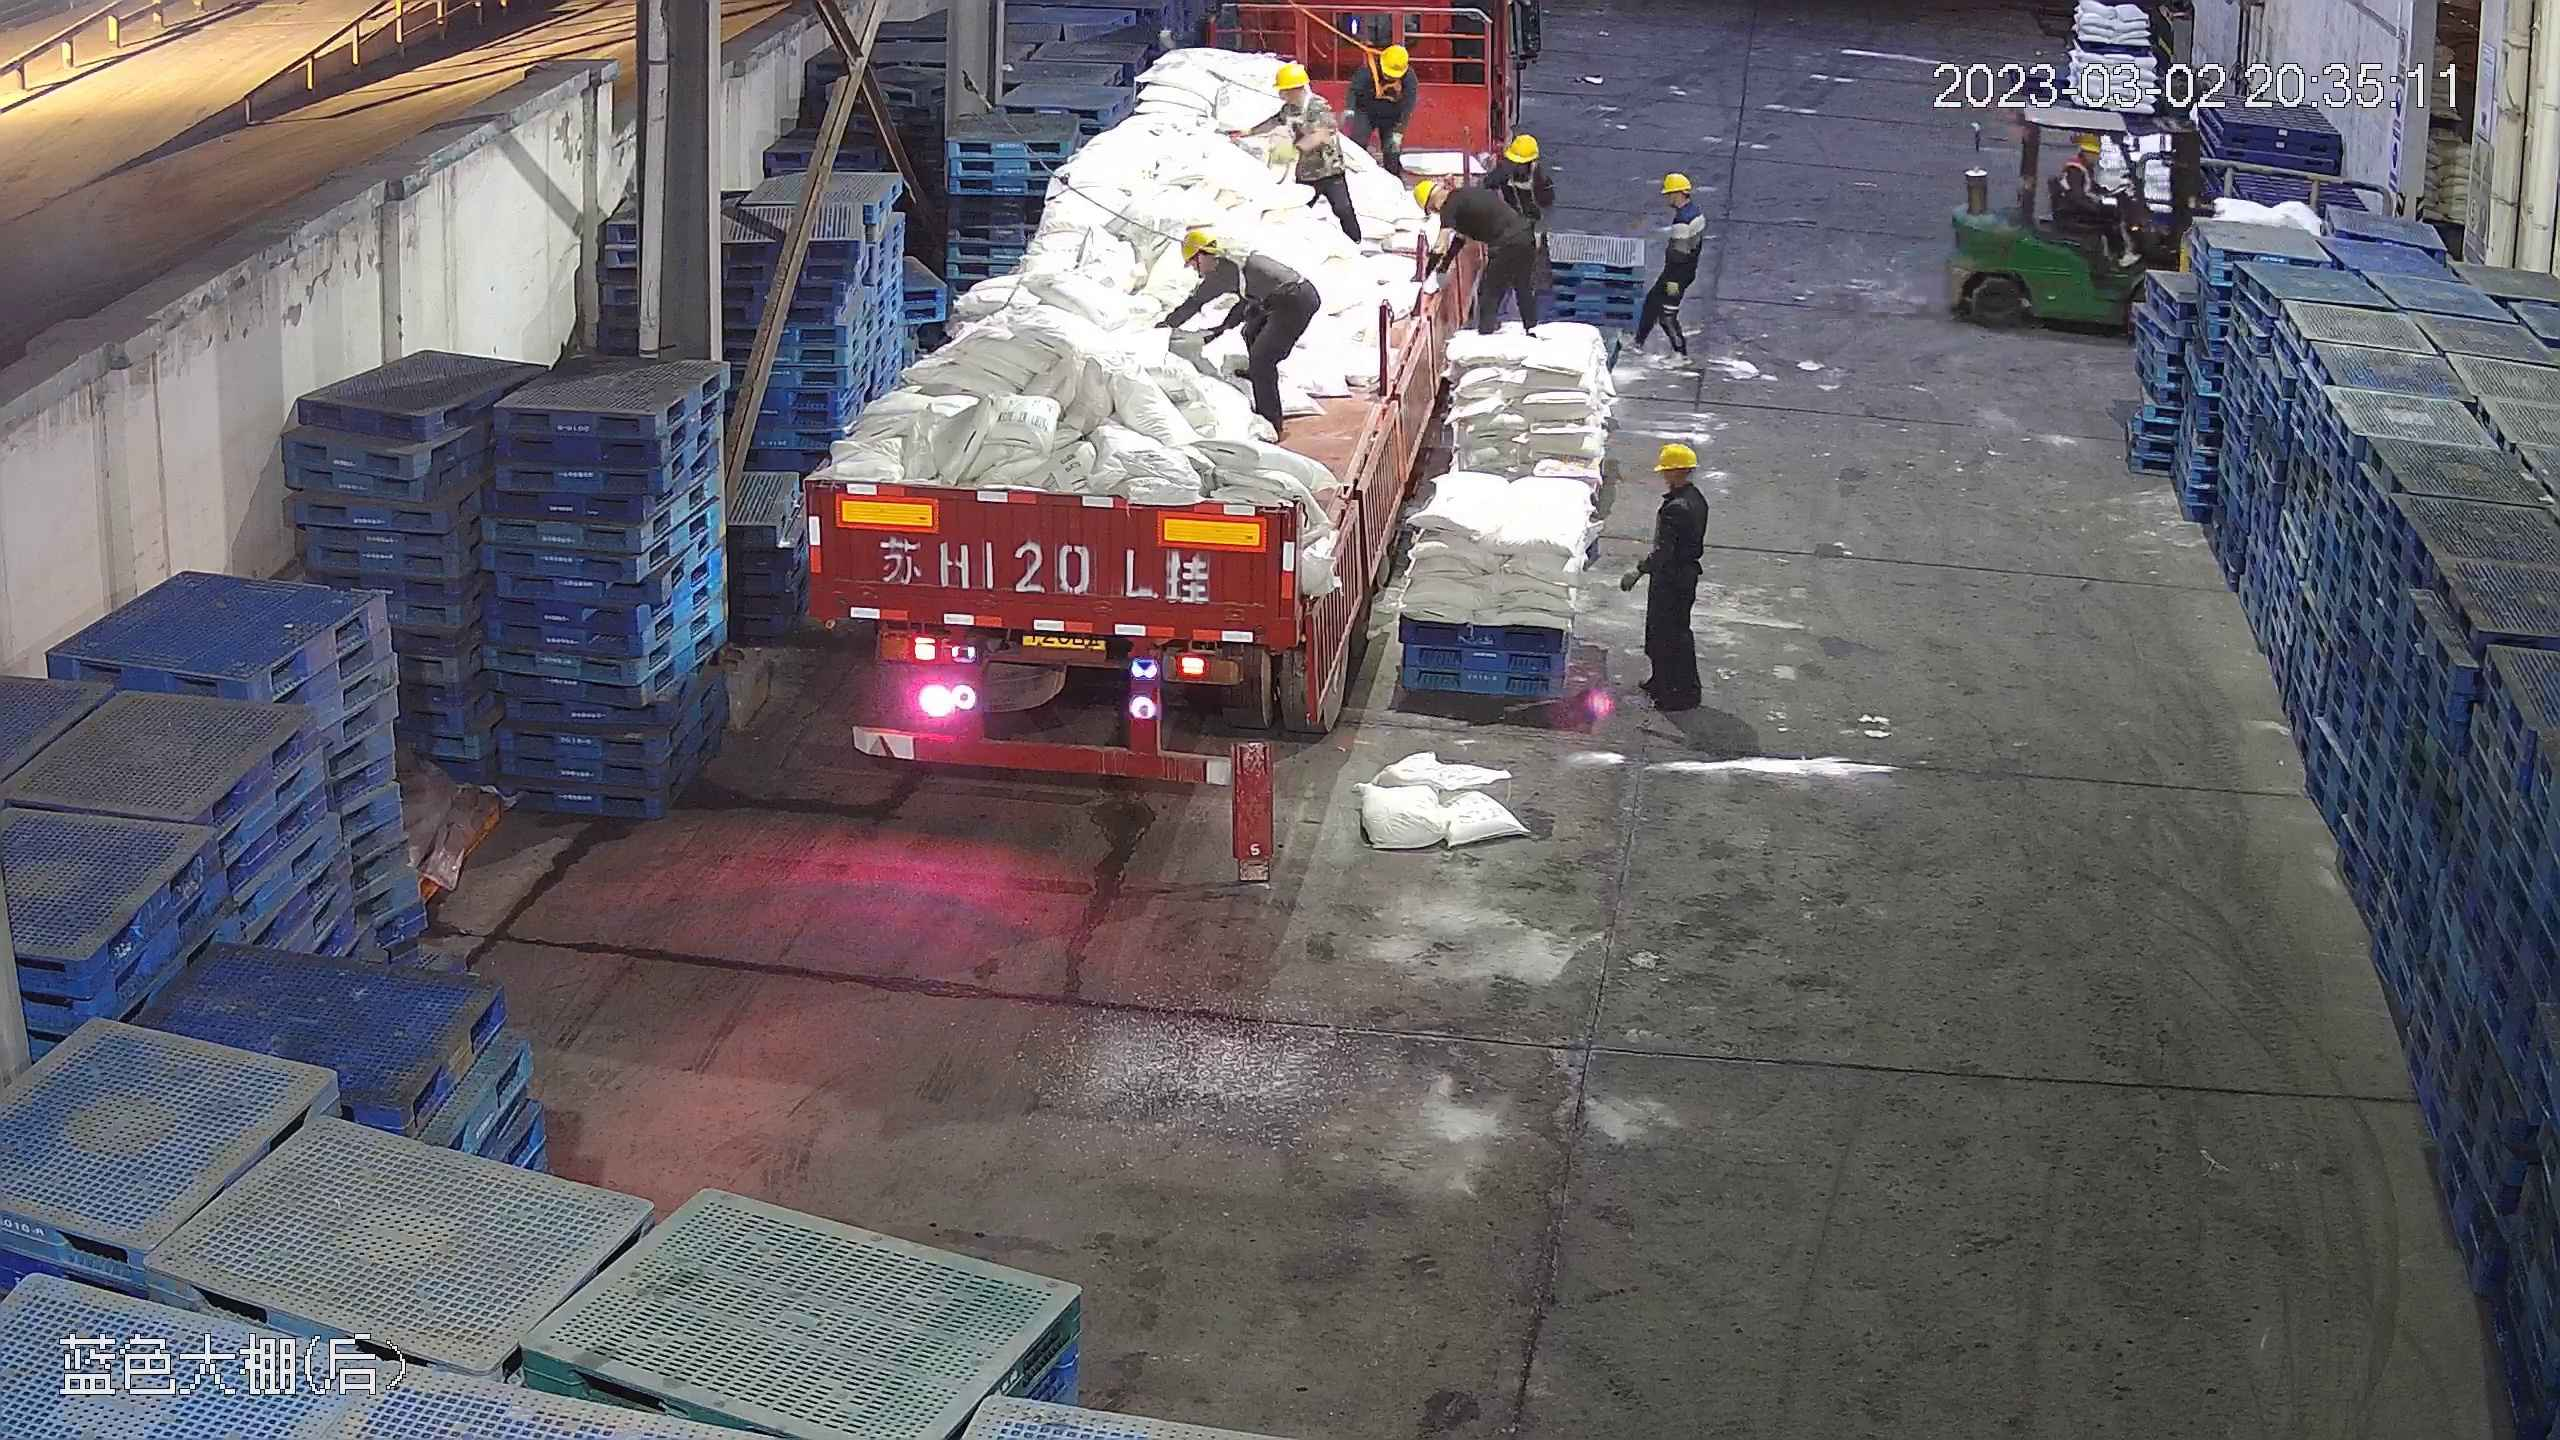belt: (1210, 246, 1278, 308), (1366, 44, 1405, 101), (1285, 95, 1319, 140), (1499, 164, 1536, 196)
head: (1175, 225, 1258, 303), (1648, 441, 1710, 527), (1265, 60, 1335, 135), (1480, 133, 1550, 204), (1411, 170, 1485, 231), (1350, 42, 1416, 95), (1651, 170, 1705, 230), (2061, 130, 2110, 186)
helmet: (1178, 224, 1221, 262), (1653, 440, 1698, 471), (1271, 60, 1311, 90), (1410, 173, 1443, 206), (1378, 42, 1410, 76), (1505, 131, 1541, 161), (2073, 129, 2105, 157), (1659, 169, 1691, 194)
people: (1158, 225, 1325, 431), (1236, 57, 1365, 260), (1424, 138, 1555, 335), (1632, 438, 1714, 713), (1629, 166, 1708, 363), (1343, 40, 1422, 180), (2059, 128, 2129, 228)
truck: (801, 3, 1504, 781)
